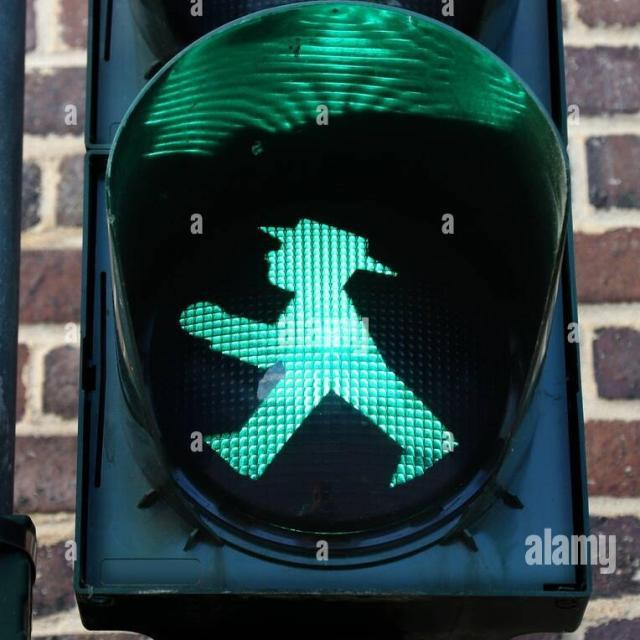green-light: (223, 206, 435, 491)
